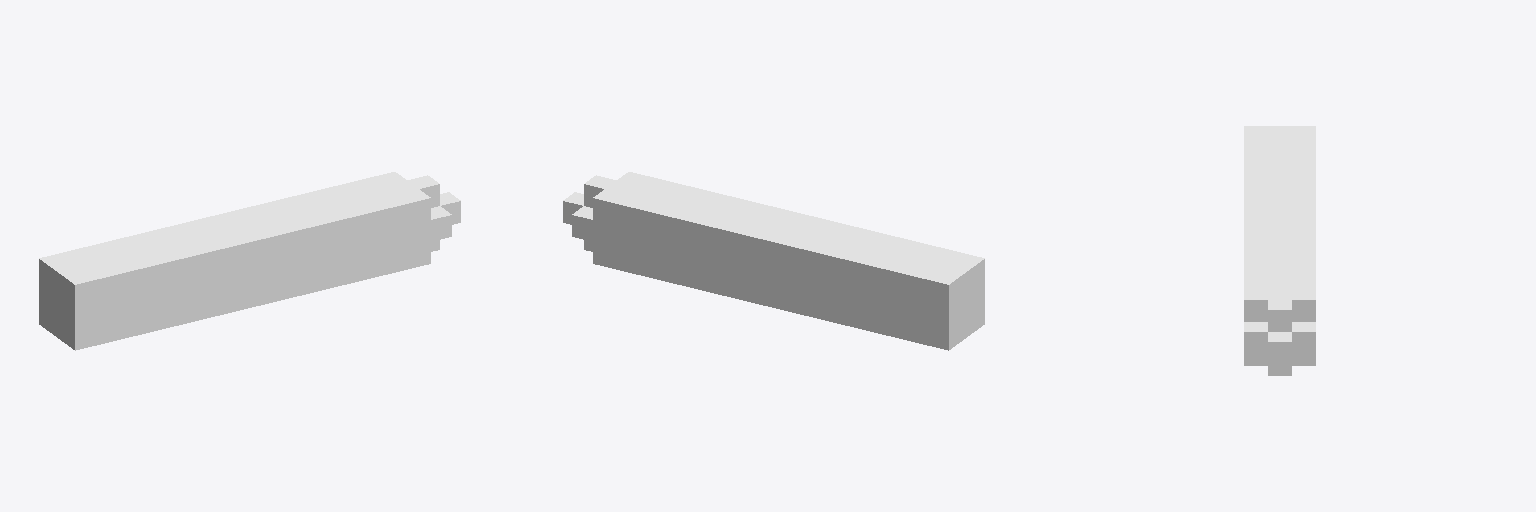
Rendered from bulletBlue.obj.
3 renders of one model, left to right at view 1: azimuth 30°, elevation 25°; view 2: azimuth 150°, elevation 25°; view 3: azimuth 270°, elevation 25°, orthographic.
Parts seen in each view (by area): view 1: bulletBlue; view 2: bulletBlue; view 3: bulletBlue.
Boxes of the visible parts, <box> form: bulletBlue: <box>39,172,460,350</box>; bulletBlue: <box>563,172,984,350</box>; bulletBlue: <box>1244,126,1315,375</box>.
Bounding box in the file's own units: 19 × 3 × 3.